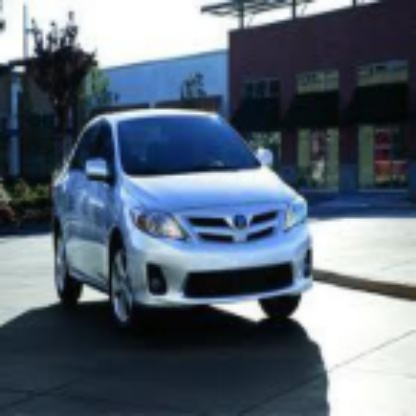Vehicle: (50, 102, 316, 346)
